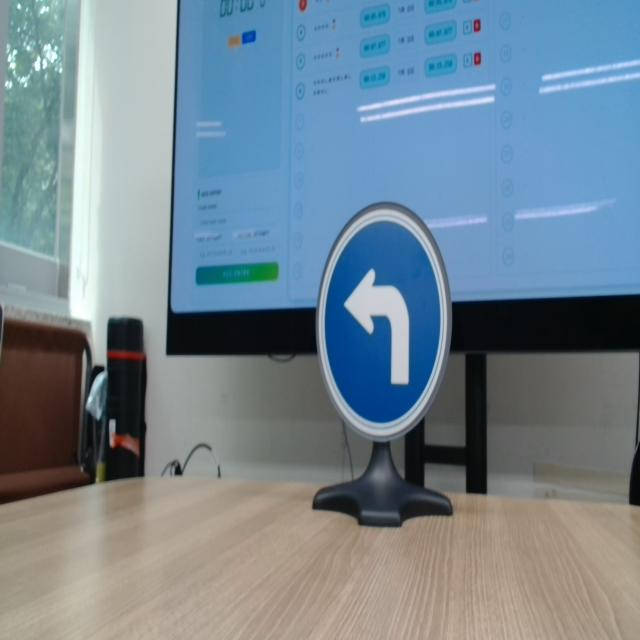left_direction: (307, 184, 469, 472)
